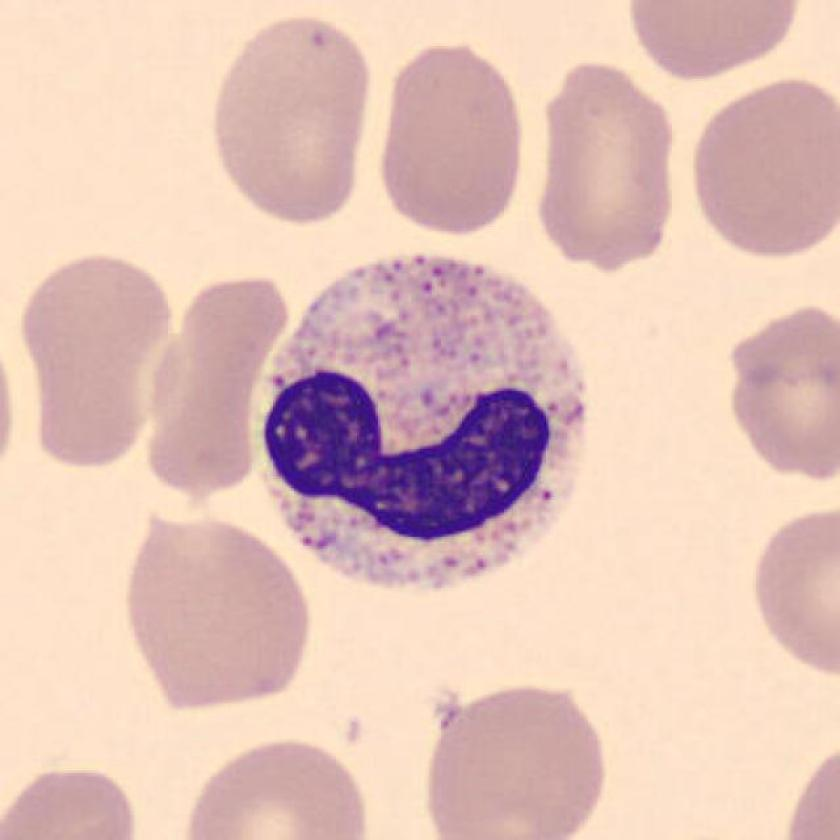neutrophil: (262, 257, 585, 588)
